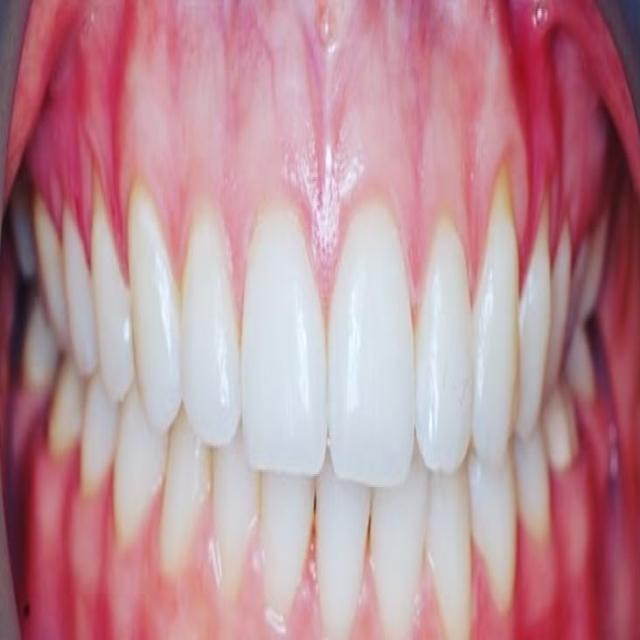1st Molar: (34, 205, 68, 344), (47, 357, 83, 457), (542, 389, 578, 475), (567, 247, 583, 346)
1st Premolar: (93, 190, 134, 406), (115, 389, 167, 550), (468, 447, 517, 614), (516, 214, 551, 429)
2nd Molar: (22, 299, 57, 400), (581, 216, 610, 312), (9, 191, 35, 280), (566, 330, 594, 411)
2nd Premolar: (62, 207, 96, 375), (79, 376, 120, 496), (546, 222, 573, 389), (515, 430, 551, 544)
Canine: (128, 179, 183, 435), (473, 162, 520, 459), (160, 411, 213, 583), (426, 472, 472, 640)
Central Incisor: (327, 203, 414, 487), (242, 208, 327, 476), (317, 461, 372, 640), (260, 474, 315, 640)
Lateral Incisor: (414, 216, 474, 472), (181, 208, 243, 448), (368, 455, 427, 640), (212, 428, 260, 603)
